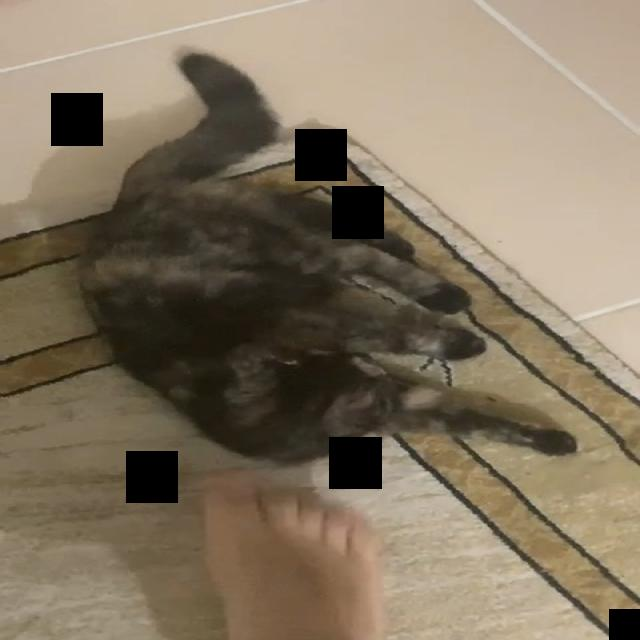authorized: (75, 47, 577, 466)
